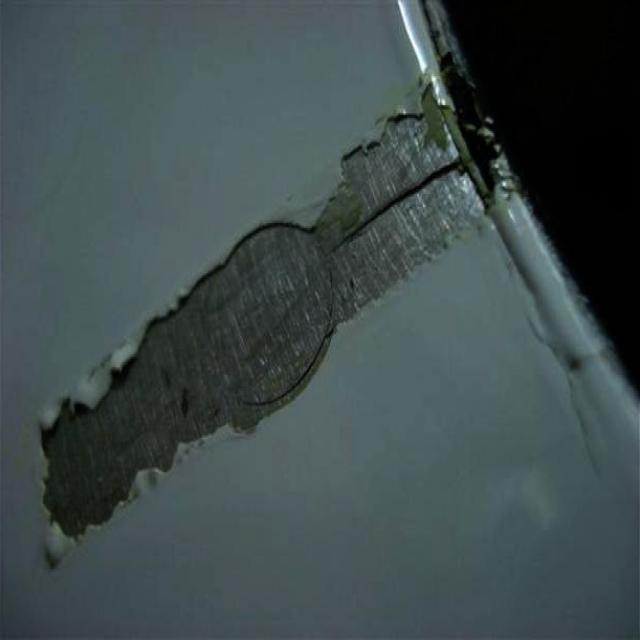Rupture: (291, 145, 491, 262)
